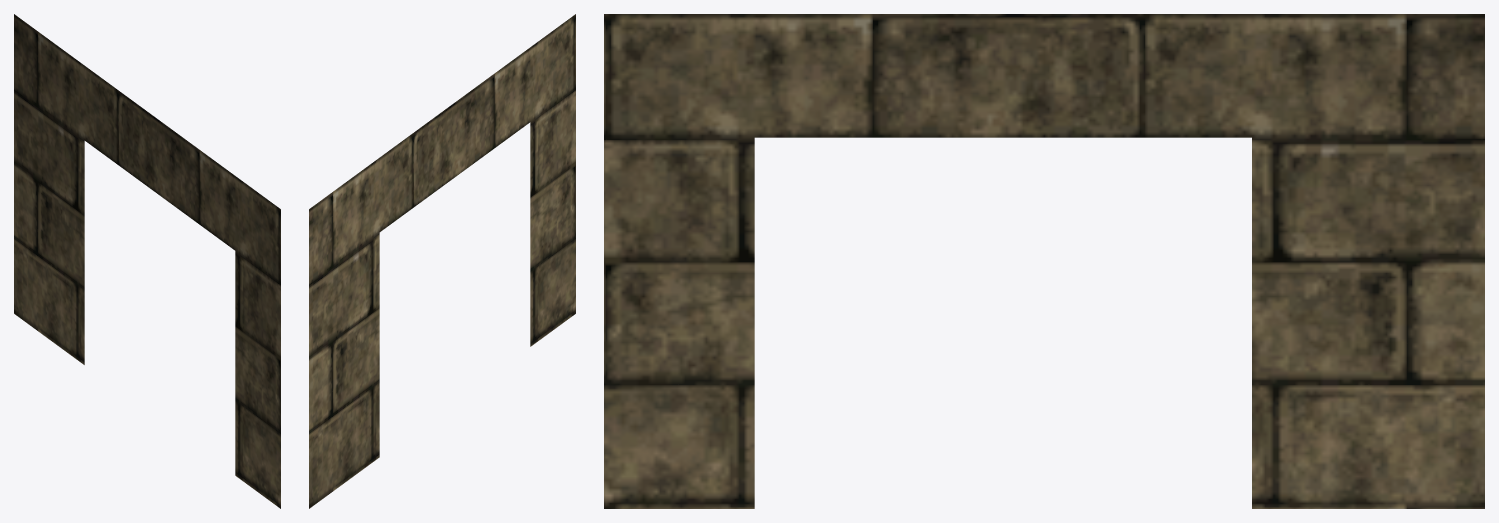
The model's file is OVERHILL_A_01_OBJECT122.fbx.
3 views of the same model, side by side, from view 1: azimuth 30°, elevation 25°; view 2: azimuth 150°, elevation 25°; view 3: azimuth 270°, elevation 25° (orthographic). The views are drawn at different scales.
Parts seen in each view (by area): view 1: OVERHILL_A_01_OBJECT122; view 2: OVERHILL_A_01_OBJECT122; view 3: OVERHILL_A_01_OBJECT122.
Boxes of the visible parts, x1,y1,x2,y2 form: OVERHILL_A_01_OBJECT122: (14,14,280,508); OVERHILL_A_01_OBJECT122: (309,14,575,508); OVERHILL_A_01_OBJECT122: (604,14,1484,508).
Size of the model in its own units: 0.1465 by 34378 by 55433.
1 material, 1 textured.
